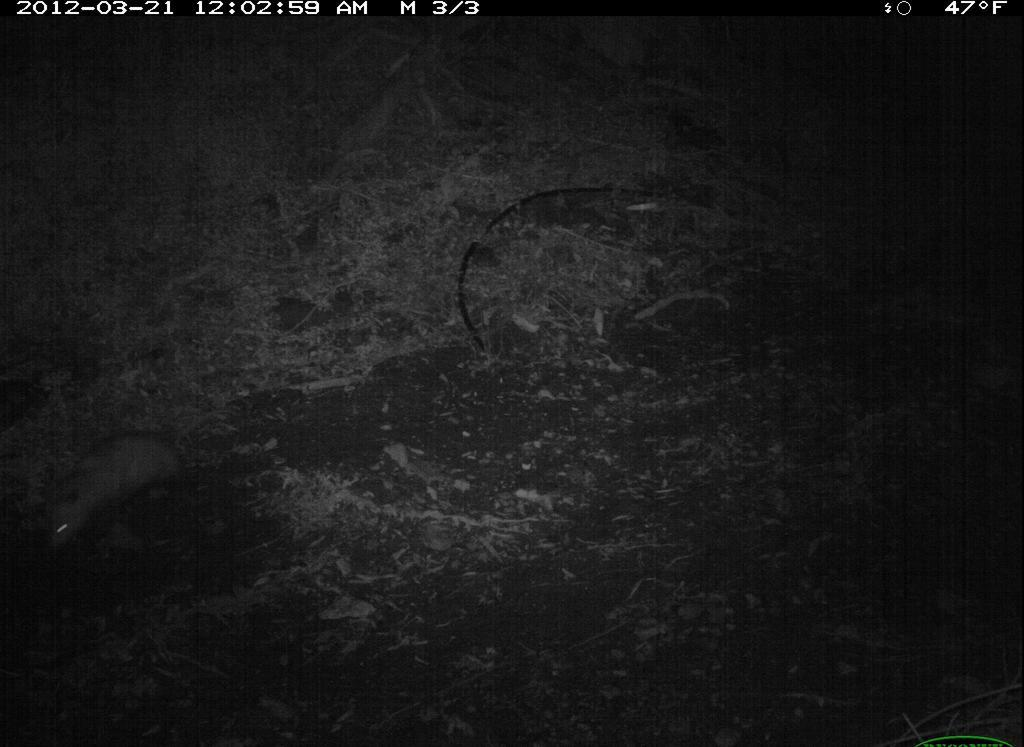opossum: (27, 425, 208, 553)
